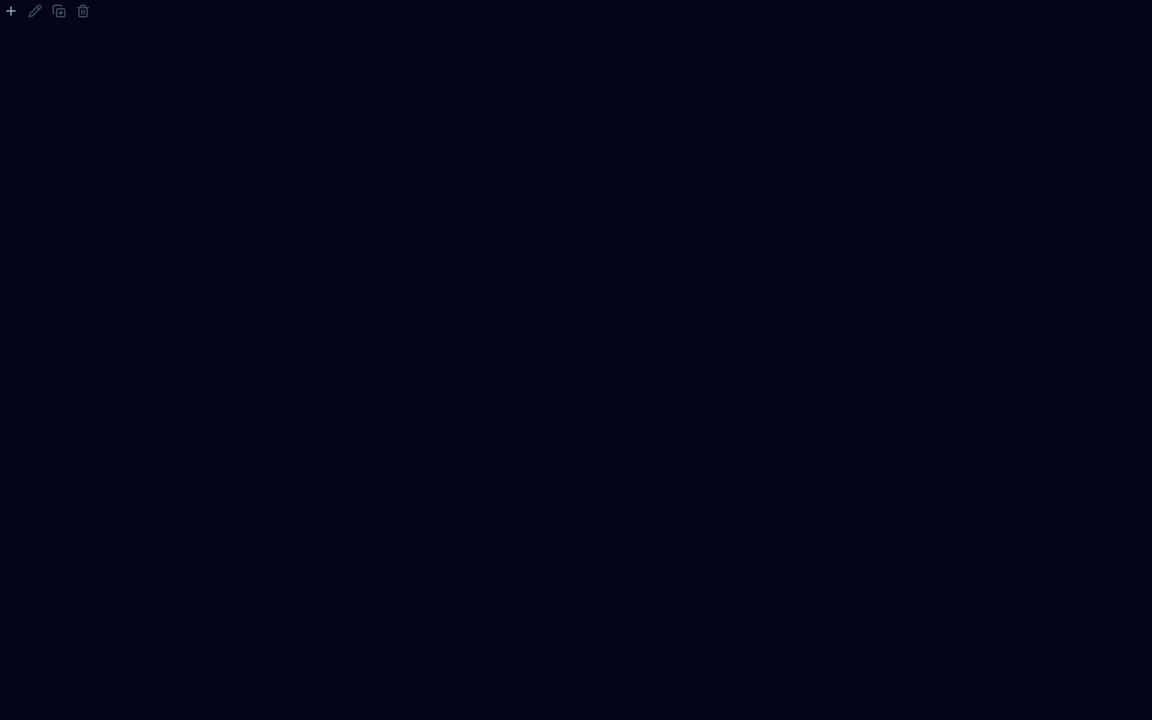
usePeekGridCrud Escape ownership › returns Preview to the retained Form, then closes the editor
Click the button with test id "test-add" at (11, 11), box [0,0,22,22]
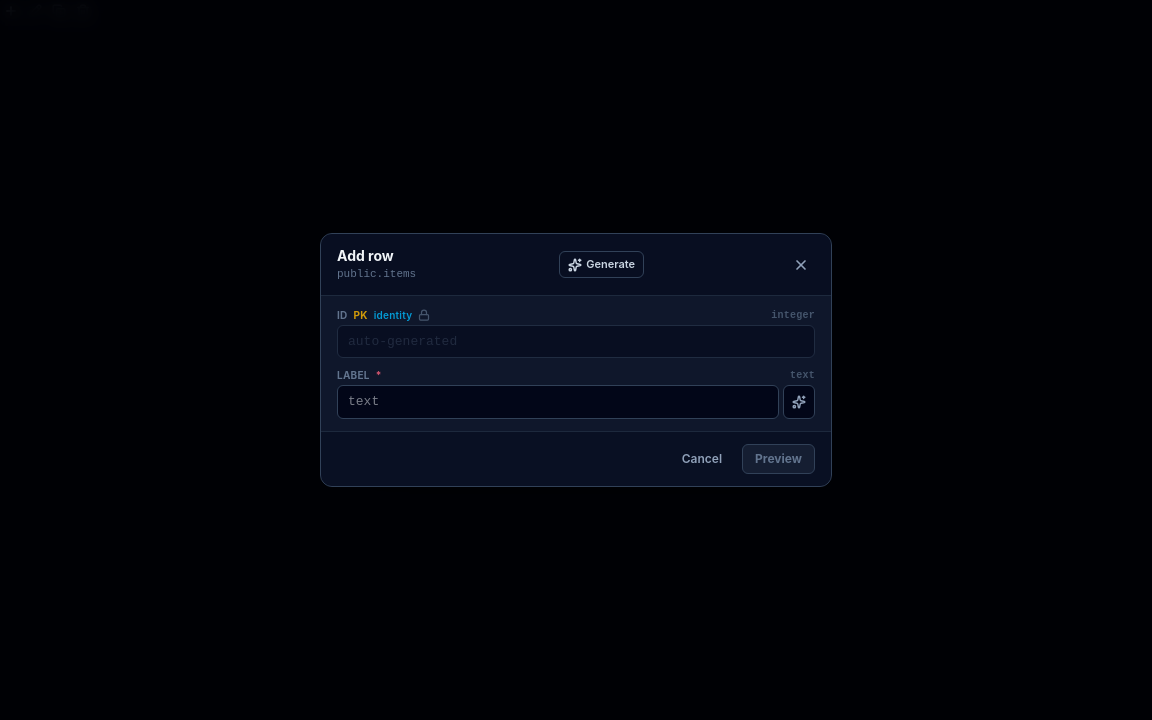
Type "retained draft" into the field with test id "peek-row-field-label" at (558, 402), box [337,385,779,419]
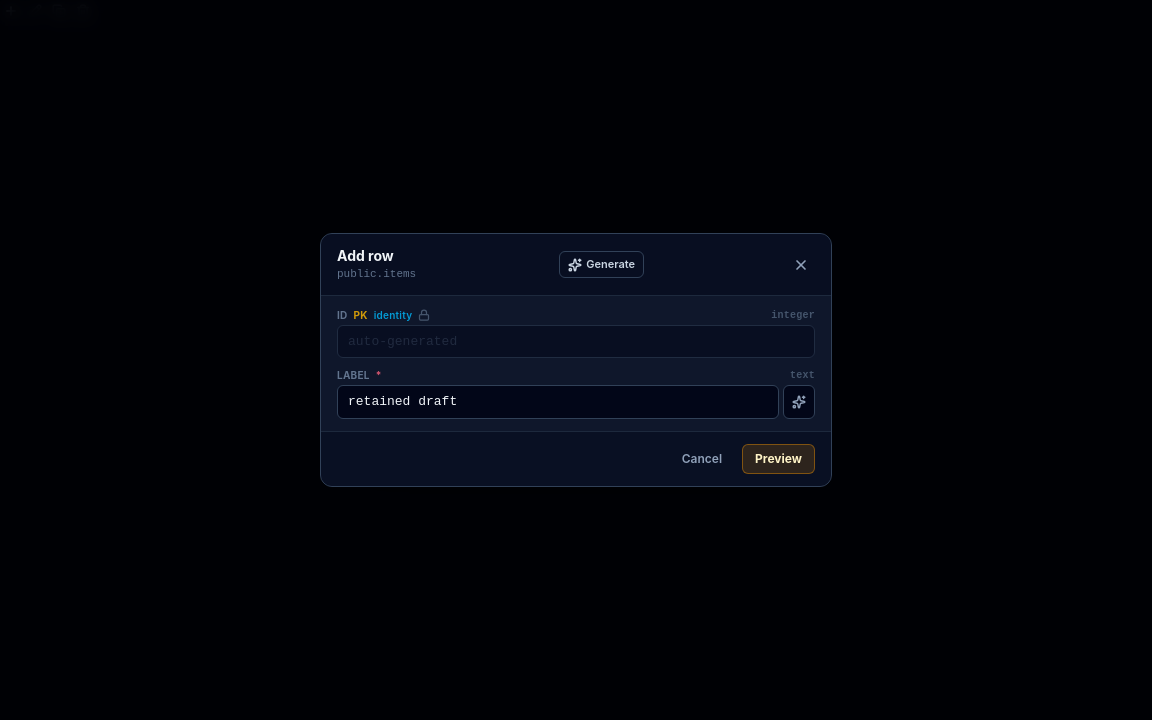
Click the button with test id "peek-row-submit" at (779, 459), box [742,444,815,474]
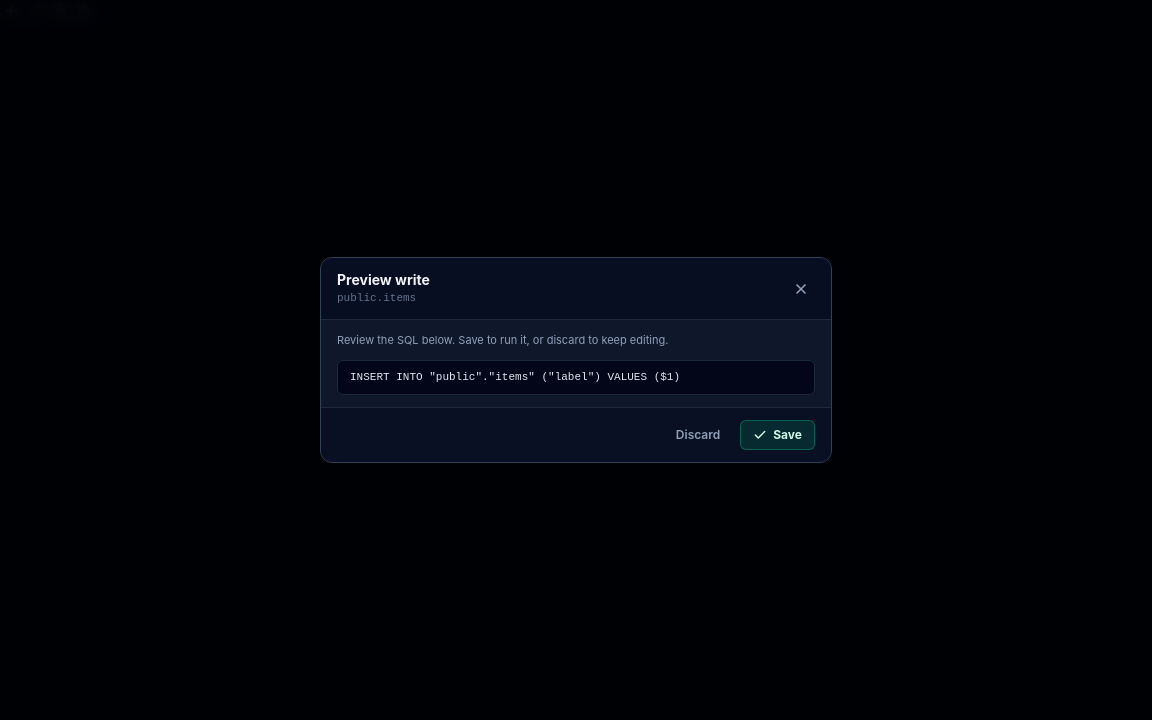
Press Escape
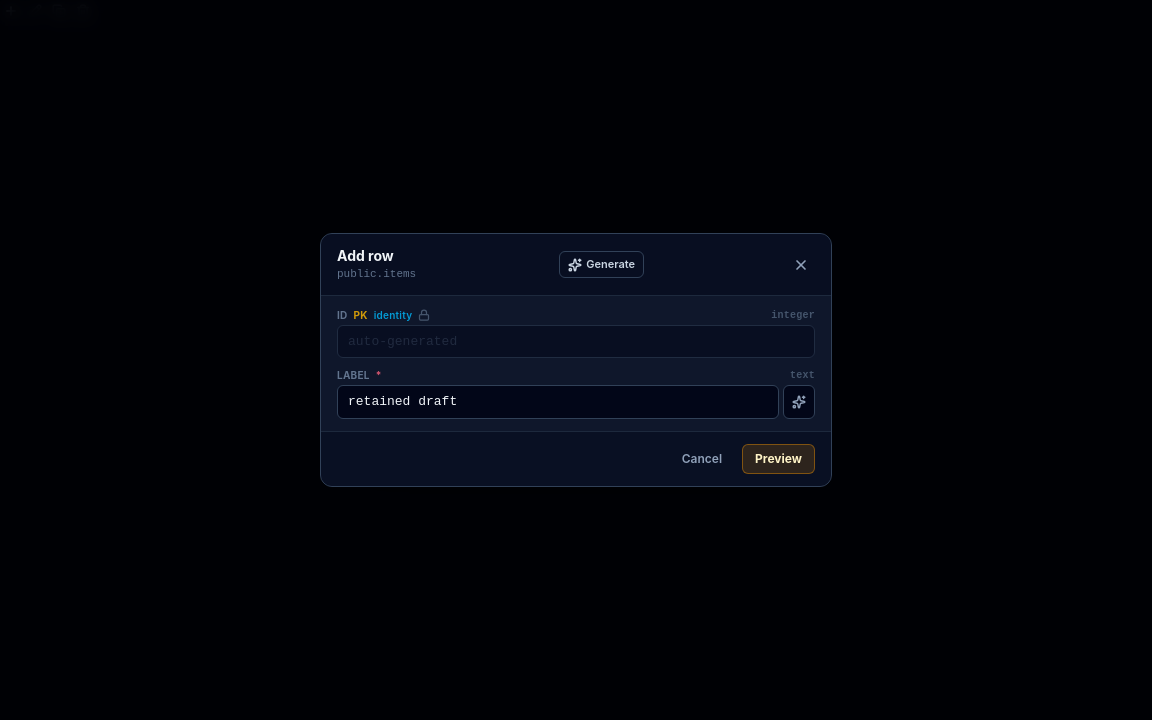
Result: the element with test id "peek-row-editor" is shown
Result: the field with test id "peek-row-field-label" holds "retained draft" at [337,385,779,419]
Press Escape
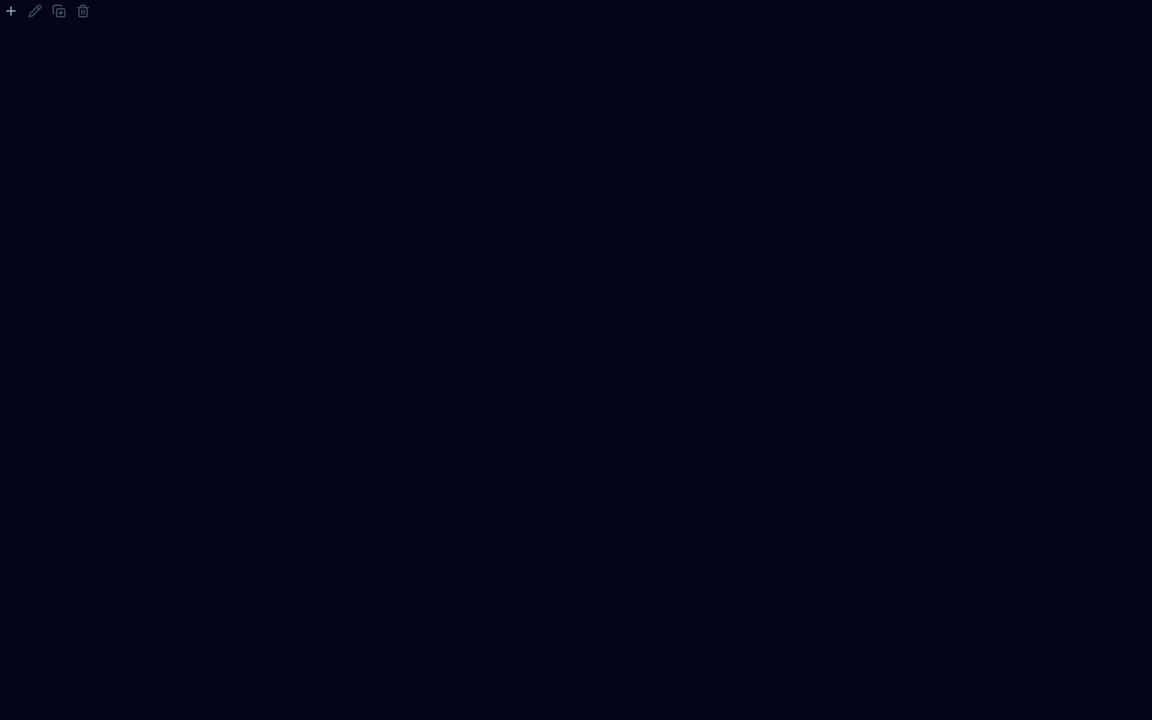
Result: the element with test id "peek-row-editor" is gone
